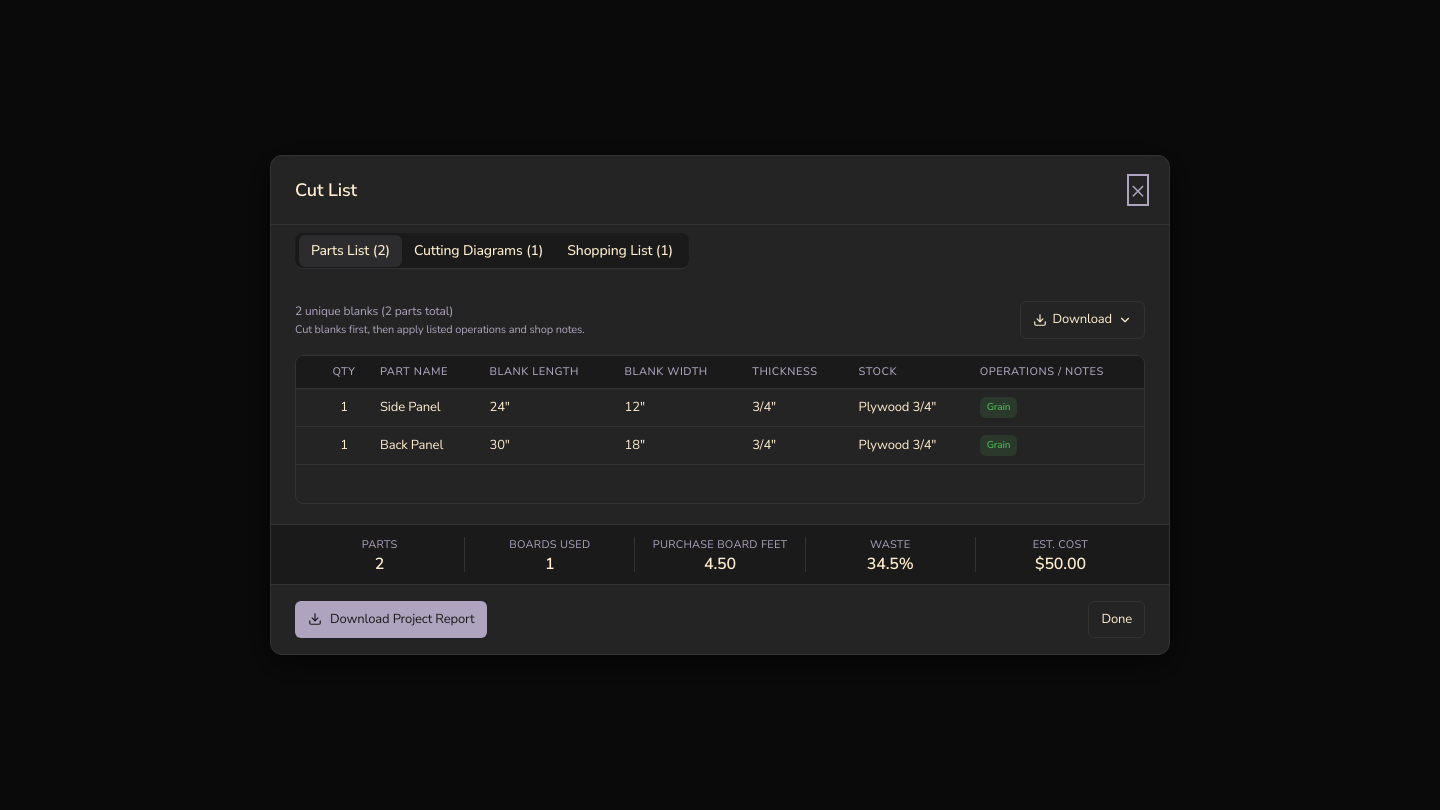
Test: CutListModal › with cut list generated › shows Download dropdown with CSV option
This screenshot has width=1440, height=810.
Click the Download dropdown to reveal options
Step 1. Click the button "Download" → (1082, 320), box [1020,301,1145,338]
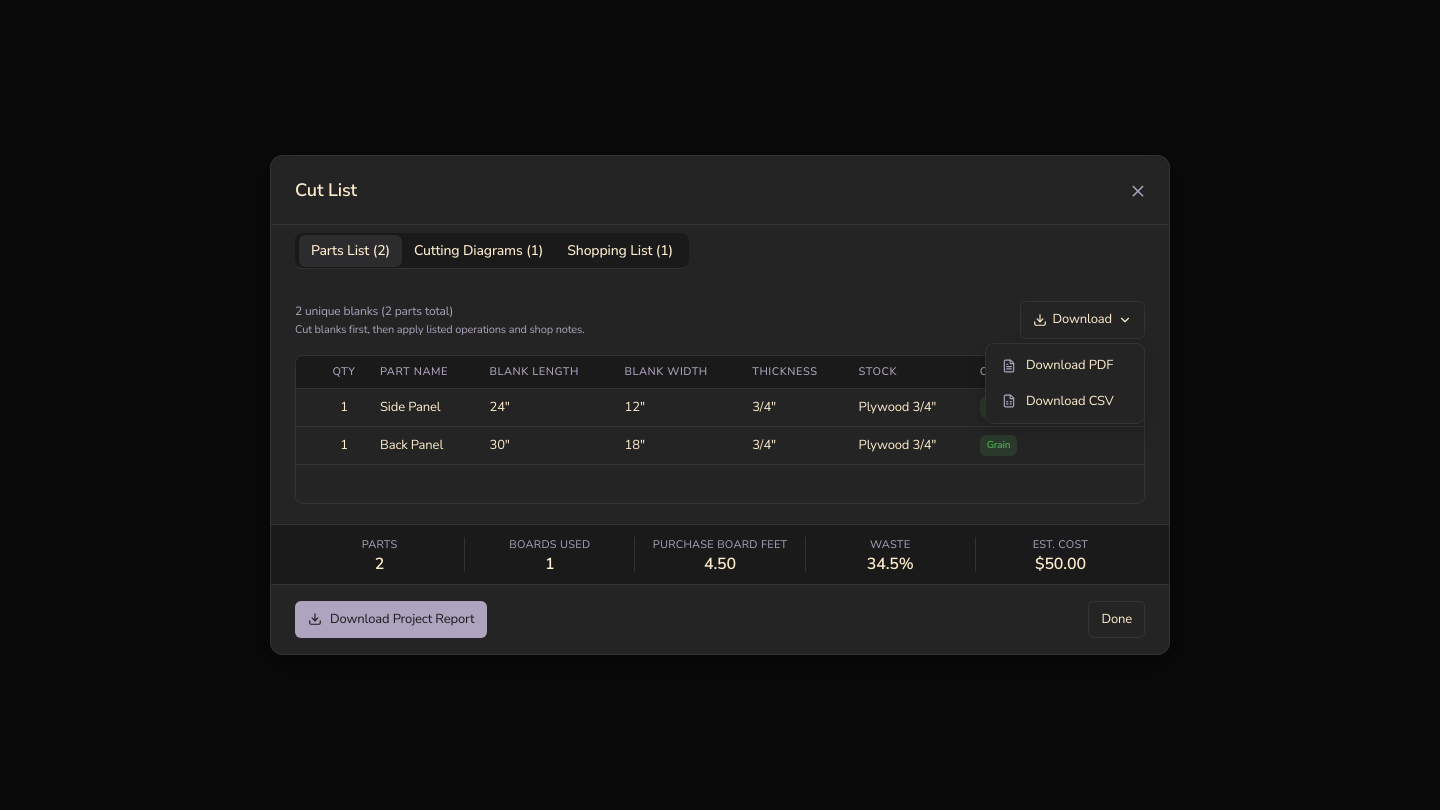
Check: the menu item "Download CSV" is shown, box [1002,392,1114,410]
